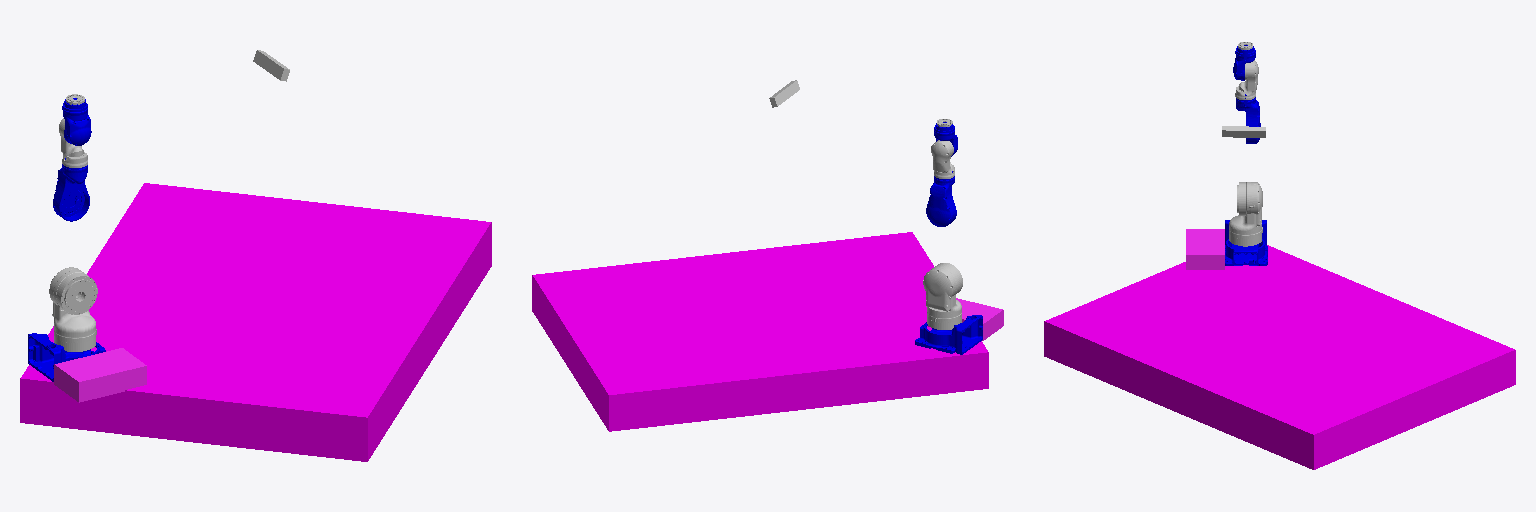
The robot description file, URDF, robot "motoman_vacumm":
<?xml version="1.0" ?>
<!-- =================================================================================== -->
<!-- |    This document was autogenerated by xacro from urdf/mantis.xacro              | -->
<!-- |    EDITING THIS FILE BY HAND IS NOT RECOMMENDED                                 | -->
<!-- =================================================================================== -->
<robot name="motoman_vacumm" xmlns:xacro="http://ros.org/wiki/xacro">
  <!-- instantiating arm and gripper -->
  <link name="base_link">
    <visual>
      <geometry>
        <mesh filename="package://motoman_config/meshes/sia20d/visual/MOTOMAN_BASE.stl"/>
      </geometry>
      <material name="blue">
        <color rgba="0 0 1 1"/>
      </material>
    </visual>
    <collision>
      <geometry>
        <mesh filename="package://motoman_config/meshes/sia20d/collision/MOTOMAN_BASE.stl"/>
      </geometry>
      <material name="yellow">
        <color rgba="0 1 1 1"/>
      </material>
    </collision>
  </link>
  <link name="link_s">
    <visual>
      <origin rpy="0 0 3.1416" xyz="0 0 0"/>
      <geometry>
        <mesh filename="package://motoman_config/meshes/sia20d/visual/MOTOMAN_AXIS_S.stl"/>
      </geometry>
      <material name="silver">
        <color rgba="0.8 0.8 0.8 1"/>
      </material>
    </visual>
    <collision>
      <origin rpy="0 0 3.1416" xyz="0 0 0"/>
      <geometry>
        <mesh filename="package://motoman_config/meshes/sia20d/collision/MOTOMAN_AXIS_S.stl"/>
      </geometry>
      <material name="yellow"/>
    </collision>
  </link>
  <link name="link_l">
    <visual>
      <origin rpy="1.57 3.1416 3.1416" xyz="0 0 0"/>
      <geometry>
        <mesh filename="package://motoman_config/meshes/sia20d/visual/MOTOMAN_AXIS_L.stl"/>
      </geometry>
      <material name="blue"/>
    </visual>
    <collision>
      <origin rpy="1.57 3.1416 3.1416" xyz="0 0 0"/>
      <geometry>
        <mesh filename="package://motoman_config/meshes/sia20d/collision/MOTOMAN_AXIS_L.stl"/>
      </geometry>
      <material name="yellow"/>
    </collision>
  </link>
  <link name="link_e">
    <visual>
      <origin rpy="0 0 0" xyz="0 0 0"/>
      <geometry>
        <mesh filename="package://motoman_config/meshes/sia20d/visual/MOTOMAN_AXIS_E.stl"/>
      </geometry>
      <material name="silver"/>
    </visual>
    <collision>
      <origin rpy="0 0 0" xyz="0 0 0"/>
      <geometry>
        <mesh filename="package://motoman_config/meshes/sia20d/collision/MOTOMAN_AXIS_E.stl"/>
      </geometry>
      <material name="yellow"/>
    </collision>
  </link>
  <link name="link_u">
    <visual>
      <origin rpy="1.57 -3.1415 3.1416" xyz="0 0 0"/>
      <geometry>
        <mesh filename="package://motoman_config/meshes/sia20d/visual/MOTOMAN_AXIS_U.stl"/>
      </geometry>
      <material name="blue"/>
    </visual>
    <collision>
      <origin rpy="1.57 -3.1415 3.1416" xyz="0 0 0"/>
      <geometry>
        <mesh filename="package://motoman_config/meshes/sia20d/collision/MOTOMAN_AXIS_U.stl"/>
      </geometry>
      <material name="yellow"/>
    </collision>
  </link>
  <link name="link_r">
    <visual>
      <origin rpy="0 0 0" xyz="0 0 0"/>
      <geometry>
        <mesh filename="package://motoman_config/meshes/sia20d/visual/MOTOMAN_AXIS_R.stl"/>
      </geometry>
      <material name="silver"/>
    </visual>
    <collision>
      <origin rpy="0 0 0" xyz="0 0 0"/>
      <geometry>
        <mesh filename="package://motoman_config/meshes/sia20d/collision/MOTOMAN_AXIS_R.stl"/>
      </geometry>
      <material name="yellow"/>
    </collision>
  </link>
  <link name="link_b">
    <visual>
      <origin rpy="-1.57 0 0" xyz="0 0 0"/>
      <geometry>
        <mesh filename="package://motoman_config/meshes/sia20d/visual/MOTOMAN_AXIS_B.stl"/>
      </geometry>
      <material name="blue"/>
    </visual>
    <collision>
      <origin rpy="-1.57 0 0" xyz="0 0 0"/>
      <geometry>
        <mesh filename="package://motoman_config/meshes/sia20d/collision/MOTOMAN_AXIS_B.stl"/>
      </geometry>
      <material name="yellow"/>
    </collision>
  </link>
  <link name="link_t">
    <visual>
      <geometry>
        <mesh filename="package://motoman_config/meshes/sia20d/visual/MOTOMAN_AXIS_T.stl"/>
      </geometry>
      <material name="silver"/>
    </visual>
    <collision>
      <geometry>
        <mesh filename="package://motoman_config/meshes/sia20d/collision/MOTOMAN_AXIS_T.stl"/>
      </geometry>
      <material name="yellow"/>
    </collision>
  </link>
  <joint name="joint_s" type="revolute">
    <parent link="base_link"/>
    <child link="link_s"/>
    <origin rpy="0 0 0" xyz="0 0 0.41"/>
    <axis xyz="0 0 1"/>
    <limit effort="100" lower="-3.1416" upper="3.1416" velocity="2.26"/>
  </joint>
  <joint name="joint_l" type="revolute">
    <parent link="link_s"/>
    <child link="link_l"/>
    <origin rpy="0 0 0" xyz="0 0 0"/>
    <axis xyz="0 1 0"/>
    <limit effort="100" lower="-1.91" upper="1.91" velocity="2.26"/>
  </joint>
  <joint name="joint_e" type="revolute">
    <parent link="link_l"/>
    <child link="link_e"/>
    <origin rpy="0 0 0" xyz="0 0 0.49"/>
    <axis xyz="0 0 1"/>
    <limit effort="100" lower="-2.96" upper="2.96" velocity="2.96"/>
  </joint>
  <joint name="joint_u" type="revolute">
    <parent link="link_e"/>
    <child link="link_u"/>
    <origin rpy="0 0 0" xyz="0 0 0"/>
    <axis xyz="0 -1 0"/>
    <limit effort="100" lower="-2.26" upper="2.26" velocity="2.96"/>
  </joint>
  <joint name="joint_r" type="revolute">
    <parent link="link_u"/>
    <child link="link_r"/>
    <origin rpy="0 0 0" xyz="0 0 0.420"/>
    <axis xyz="0 0 -1"/>
    <limit effort="100" lower="-3.1416" upper="3.1416" velocity="3.48"/>
  </joint>
  <joint name="joint_b" type="revolute">
    <parent link="link_r"/>
    <child link="link_b"/>
    <origin rpy="0 0 0" xyz="0 0 0"/>
    <axis xyz="0 -1 0"/>
    <limit effort="100" lower="-1.91" upper="1.91" velocity="3.48"/>
  </joint>
  <joint name="joint_t" type="revolute">
    <parent link="link_b"/>
    <child link="link_t"/>
    <origin rpy="0 0 0" xyz="0 0 0.18"/>
    <axis xyz="0 0 -1"/>
    <limit effort="100" lower="-3.1416" upper="3.1416" velocity="6.97"/>
  </joint>
  <link name="palm">
    <visual>
      <origin rpy="0 0 0" xyz="0 0.036 -0.1"/>
      <geometry>
        <mesh filename="package://mantis_config/config/meshes/vacuum_gripper_vis.STL"/>
      </geometry>
      <material name="silver">
        <color rgba="0.8 0.8 0.8 1"/>
      </material>
    </visual>
    <collision>
      <origin rpy="0 0 0" xyz="0 0.036 -0.1"/>
      <geometry>
        <mesh filename="package://mantis_config/config/meshes/vacuum_gripper_col.stl"/>
      </geometry>
      <material name="another_blue2">
        <color rgba="0.38 0.54 0.83 1"/>
      </material>
    </collision>
  </link>
  <!-- property list -->
  <!-- link sub-blocks -->
  <!-- arm-gripper coupling links -->
  <link name="coupler">
    <visual>
      <geometry>
        <mesh filename="package://longhorn/meshes/coupler/visual/COUPLER.stl"/>
      </geometry>
      <material name="orange">
        <color rgba="1 0.5 0 1"/>
      </material>
    </visual>
    <collision>
      <geometry>
        <mesh filename="package://longhorn/meshes/coupler/collision/COUPLER.stl"/>
      </geometry>
      <material name="yellow">
        <color rgba="0 1 1 1"/>
      </material>
    </collision>
  </link>
  <!-- end of arm-gripper coupling links -->
  <!-- arm-gripper coupling joints -->
  <joint name="tool-coupler" type="fixed">
    <parent link="link_t"/>
    <child link="coupler"/>
    <origin rpy="1.570 0 -0.785" xyz="0 0 0"/>
  </joint>
  <joint name="coupler-hand" type="fixed">
    <parent link="coupler"/>
    <child link="palm"/>
    <origin rpy="-1.570 0 0" xyz="0 0.182 0.036"/>
  </joint>
  <!-- end of arm-gripper coupling joints -->
  <!-- environment objects -->
  <link name="table">
    <visual>
      <geometry>
        <box size="1.83 2.44 0.25"/>
      </geometry>
      <material name="">
        <color rgba="1 0 1 1"/>
      </material>
    </visual>
    <collision>
      <geometry>
        <box size="1.83 2.44 0.25"/>
      </geometry>
      <material name="">
        <color rgba="1 0 1 1"/>
      </material>
    </collision>
  </link>
  <link name="table_keepout_1">
    <collision>
      <geometry>
        <box size="2.08 0.25 2"/>
      </geometry>
      <material name="">
        <color rgba="1 0.2 1 0.1"/>
      </material>
    </collision>
  </link>
  <link name="table_keepout_2">
    <collision>
      <geometry>
        <box size="0.25 2.69 2"/>
      </geometry>
      <material name="">
        <color rgba="1 0.2 1 0.1"/>
      </material>
    </collision>
  </link>
  <link name="power_supply">
    <visual>
      <geometry>
        <box size="0.400 0.250 0.115"/>
      </geometry>
      <material name="">
        <color rgba="1 0.2 1 0.1"/>
      </material>
    </visual>
    <collision>
      <geometry>
        <box size="0.400 0.250 0.115"/>
      </geometry>
      <material name="">
        <color rgba="1 0.2 1 0.1"/>
      </material>
    </collision>
  </link>
  <link name="kinect_keepout">
    <collision>
      <geometry>
        <box size="0.25 2.69 2"/>
      </geometry>
      <material name="">
        <color rgba="1 0.2 1 0.1"/>
      </material>
    </collision>
  </link>
  <link name="kinect">
    <collision>
      <geometry>
        <box size="0.36 0.28 0.22"/>
      </geometry>
      <material name="">
        <color rgba="1 0.8 1 0.1"/>
      </material>
    </collision>
  </link>
  <!-- end of environment objects -->
  <!-- environment joints -->
  <joint name="base-table" type="fixed">
    <parent link="base_link"/>
    <child link="table"/>
    <origin rpy="0 0 -0.785" xyz="1.19 0.22 -0.125"/>
  </joint>
  <joint name="base-kinect" type="fixed">
    <parent link="base_link"/>
    <child link="kinect"/>
    <origin rpy="0.06 1.19 3.19" xyz="1.15 -0.01 1.42"/>
  </joint>  
<!--	<link name="kinect1">
		<visual>
			<origin rpy="0 0 0" xyz="0 0 0"/>
			<geometry>
				<sphere radius="0.0005"/>
			</geometry>
		</visual>
	</link>
	<link name="kinect2">
		<visual>
			<origin rpy="0 0 0" xyz="0 0 0"/>
			<geometry>
				<sphere radius="0.0005"/>
			</geometry>
		</visual>
	</link>
	<link name="kinect3">
		<visual>
			<origin rpy="0 0 0" xyz="0 0 0"/>
			<geometry>
				<sphere radius="0.0005"/>
			</geometry>
		</visual>
	</link>
	<link name="kinect4">
		<visual>
			<origin rpy="0 0 0" xyz="0 0 0"/>
			<geometry>
				<sphere radius="0.0005"/>
			</geometry>
		</visual>
	</link>
	<link name="kinect5">
		<visual>
			<origin rpy="0 0 0" xyz="0 0 0"/>
			<geometry>
				<sphere radius="0.0005"/>
			</geometry>
		</visual>
	</link>
	<link name="kinect6">
		<visual>
			<origin rpy="0 0 0" xyz="0 0 0"/>
			<geometry>
				<sphere radius="0.0005"/>
			</geometry>
		</visual>
	</link>
  <joint name="base-kinect1-z" type="prismatic"> 
    <parent link="base_link"/>
    <child link="kinect1"/>
    <origin rpy="0 0 0" xyz="0 0 1.42"/>
    <axis xyz="0 0 1"/>
    <limit effort="100" lower="-0.5" upper="0.5" velocity="3.48"/>
  </joint>
  <joint name="kinect1-kinect2-y" type="prismatic">
    <parent link="kinect1"/>
    <child link="kinect2"/>
    <origin rpy="0 0 0" xyz="0 -0.01 0"/>
    <axis xyz="0 1 0"/>
    <limit effort="100" lower="-0.5" upper="0.5" velocity="3.48"/>
  </joint>
  <joint name="kinect2-kinect3-x" type="prismatic">
    <parent link="kinect2"/>
    <child link="kinect3"/>
    <origin rpy="0 0 0" xyz="1.15 0 0"/>
    <axis xyz="1 0 0"/>
    <limit effort="100" lower="-0.15" upper="0.15" velocity="3.48"/>
  </joint>
  <joint name="kinect3-kinect4-y" type="revolute">
    <parent link="kinect3"/>
    <child link="kinect4"/>
    <origin rpy="0 0 3.19" xyz="0 0 0"/>
    <axis xyz="0 0 1"/>
    <limit effort="100" lower="-0.52" upper="0.52" velocity="3.48"/>
  </joint>
  <joint name="kinect4-kinect5-p" type="revolute">
    <parent link="kinect4"/>
    <child link="kinect5"/>
    <origin rpy="0 1.19 0" xyz="0 0 0"/>
    <axis xyz="0 1 0"/>
    <limit effort="100" lower="-0.52" upper="0.52" velocity="3.48"/>
  </joint>
  <joint name="kinect5-kinect6-r" type="revolute">
    <parent link="kinect5"/>
    <child link="kinect6"/>
    <origin rpy="0.06 0 0" xyz="0 0 0"/>
    <axis xyz="1 0 0"/>
    <limit effort="100" lower="-0.1" upper="0.1" velocity="3.48"/>
  </joint>
  <joint name="kinect6-kinect" type="revolute">
    <parent link="kinect6"/>
    <child link="kinect"/>
    <origin rpy="0 0 0" xyz="0 0 0"/>
    <axis xyz="1 0 0"/>
    <limit effort="100" lower="-0.1" upper="0.1" velocity="3.48"/>
  </joint> -->
<!-- END EXPERIMENT base_link to kinect-->
  <joint name="table-keepout_1" type="fixed">
    <parent link="table"/>
    <child link="table_keepout_1"/>
    <origin rpy="0 0 0" xyz="0 -1.34 1"/>
  </joint>
  <joint name="table-keepout_2" type="fixed">
    <parent link="table"/>
    <child link="table_keepout_2"/>
    <origin rpy="0 0 0" xyz="-1.025 0 1"/>
  </joint>
  <joint name="base-power_supply" type="fixed">
    <parent link="base_link"/>
    <child link="power_supply"/>
    <origin rpy="0 0 0" xyz="0 -0.260 0.050"/>
  </joint>
  <joint name="table-kinect" type="fixed">
    <parent link="table"/>
    <child link="kinect_keepout"/>
    <origin rpy="0 0 0" xyz=".5 0 1"/>
  </joint><axis xyz="0 1 0"/>
    <limit effort="100" lower="-0.52" upper="0.52" velocity="3.48"/>
  <!-- end of environment joints -->
  <!-- sensor links -->
  <link name="kinect_frame">
    <visual>
      <origin rpy="0 0 0" xyz="0 0 0"/>
      <geometry>
        <box size="0.064 0.28 0.04"/>
      </geometry>
      <material name="silver"/>
    </visual>
    <collision>
      <origin rpy="0 0 0" xyz="0 0 0"/>
      <geometry>
        <box size="0.064 0.28 0.04"/>
      </geometry>
    </collision>
  </link>
  <link name="kinect_ir_link">
    <visual>
      <origin rpy="0 0 0" xyz="0 0 0"/>
      <geometry>
        <sphere radius="0.0005"/>
      </geometry>
    </visual>
  </link>
  <link name="kinect_rgb_link">
    <visual>
      <origin rpy="0 0 0" xyz="0 0 0"/>
      <geometry>
        <sphere radius="0.0005"/>
      </geometry>
    </visual>
  </link>
  <link name="kinect_ir_optical_frame"/>
  <link name="kinect_rgb_optical_frame"/>
  <!-- end of sensor links -->
  <!-- sensor joints -->
  <joint name="kinect_frame_joint" type="fixed">
    <parent link="kinect"/>
    <child link="kinect_frame"/>
    <origin rpy="0 0 0" xyz="0 0 0"/>
  </joint>
  <joint name="kinect_ir_joint" type="fixed">
    <parent link="kinect_frame"/>
    <child link="kinect_ir_link"/>
    <origin rpy="0 0 0" xyz="0 0 0"/>
  </joint>
  <joint name="kinect_ir_optical_frame_joint" type="revolute">
    <parent link="kinect_ir_link"/>
    <child link="kinect_ir_optical_frame"/>
    <origin rpy="-1.57 0 -1.57" xyz="0 0 0"/>
    <axis xyz="1 0 0"/>
    <limit effort="100" lower="-1" upper="1" velocity="3.48"/>
  </joint>
  <joint name="kinect_rgb_joint" type="fixed">
    <parent link="kinect_ir_link"/>
    <child link="kinect_rgb_link"/>
    <origin rpy="0 0 0" xyz="0 -0.03 0"/>
  </joint>
  <joint name="kinect_rgb_optical_frame_joint" type="fixed">
    <parent link="kinect_rgb_link"/>
    <child link="kinect_rgb_optical_frame"/>
    <origin rpy="-1.57 0 -1.57" xyz="0 0 0"/>
  </joint>
  <!-- end of sensor joints -->
</robot>

--- What the picture shows (computed from the rendered views, not written in the file) ---
Views: 3 orthographic renders of the robot side by side, from view 1: azimuth 30°, elevation 25°; view 2: azimuth 150°, elevation 25°; view 3: azimuth 270°, elevation 25°.
Robot: motoman_vacumm — 21 links, 20 joints (8 revolute, 12 fixed); root link base_link; default pose: every joint at zero.
Links seen in each view (by area): view 1: table, power_supply, link_s, link_u, base_link, link_b, link_r, kinect_frame; view 2: table, link_s, base_link, link_u, power_supply, link_r; view 3: table, link_s, power_supply, base_link, link_r, link_u.
Boxes of the visible links, x1,y1,x2,y2 form: table: (20,183,491,461); power_supply: (54,348,146,402); link_s: (49,267,97,351); link_u: (53,158,89,221); base_link: (28,333,105,381); link_b: (62,98,91,145); link_r: (59,118,87,167); kinect_frame: (253,50,289,81); table: (532,232,988,431); link_s: (923,263,962,329); base_link: (915,315,982,354); link_u: (926,171,956,226); power_supply: (928,298,1003,340); link_r: (931,140,954,178); table: (1044,245,1515,469); link_s: (1229,182,1262,246); power_supply: (1186,229,1224,269); base_link: (1225,220,1267,265); link_r: (1235,60,1258,99); link_u: (1236,94,1260,143).
Size in the robot's own frame: 3.02 by 3.02 by 1.75 metres.
Meshes: 10 distinct files referenced, 6 mesh visuals loaded (6 binary STL); not drawn: 4 (reference not matched to a file when rendering).